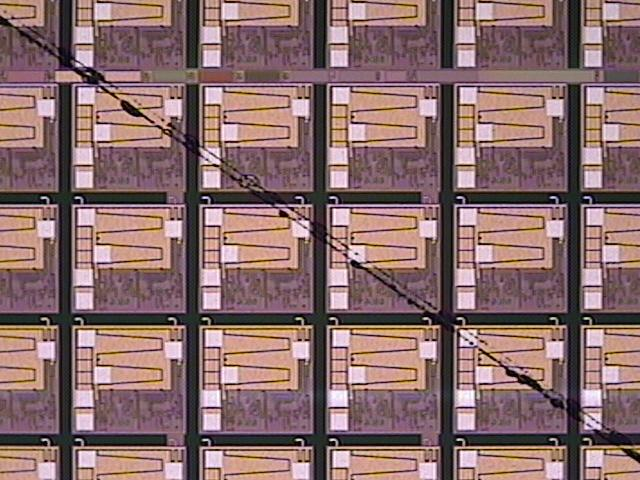SCRATCH: (1, 1, 640, 469)
